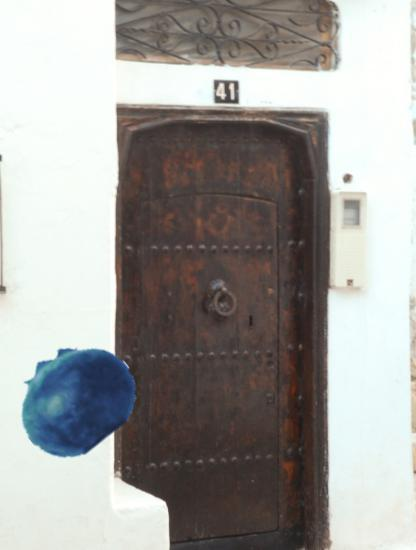Huckleberry: (14, 337, 137, 460)
